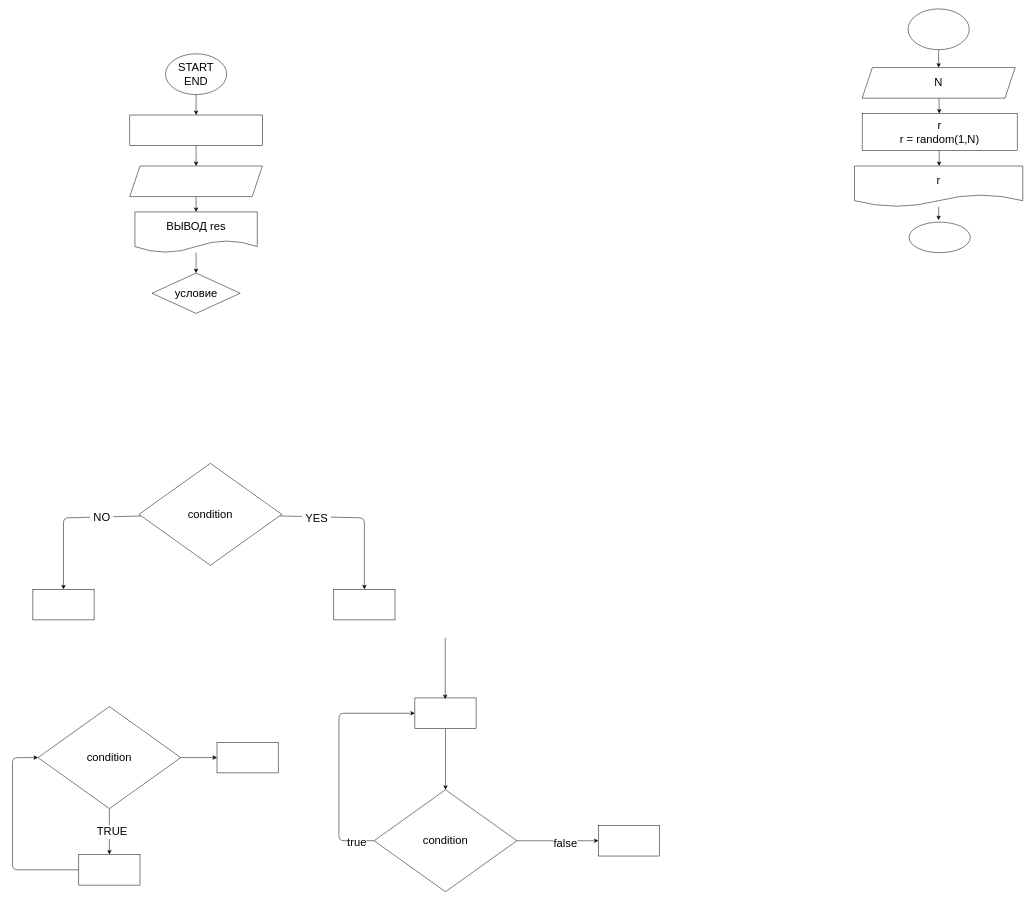
The diagram is 1032 pixels wide and 901 high, and some of its shapes have lost their labels. Here are the shapes that lost their labels. From the top down, the centre of each, then its label:
At pixel 938 29: "START".
At pixel 195 130: "count = 0 res = 1 * Sqrt(2)".
At pixel 195 181: "ВВОД count".
At pixel 939 237: "END".
